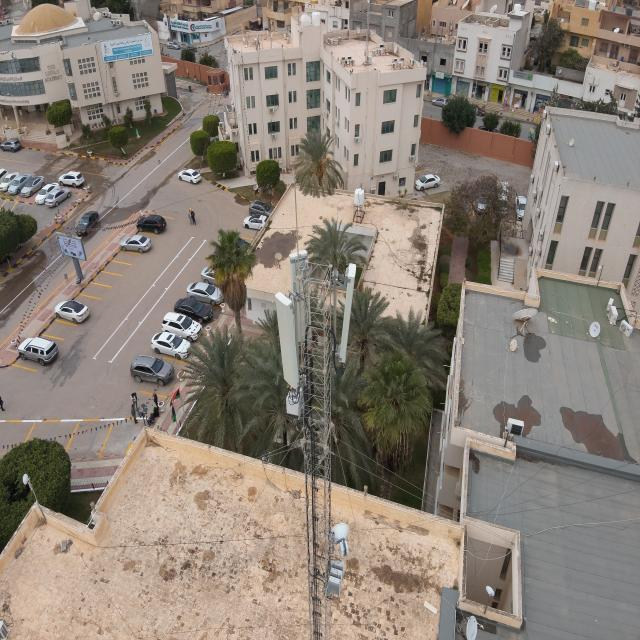antenna: (274, 291, 302, 389), (290, 248, 314, 342), (338, 263, 358, 362)
lighnig-rad: (290, 167, 304, 282)
microware-dish: (328, 518, 352, 558)
power-box: (328, 558, 347, 600)
radio-unit: (285, 389, 303, 417)
